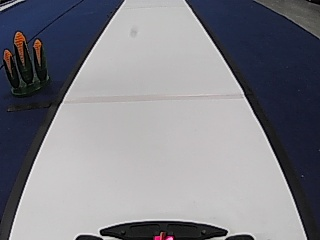corn: (2, 29, 51, 95)
